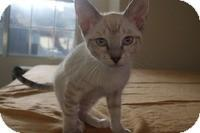siamese: (73, 1, 150, 81)
